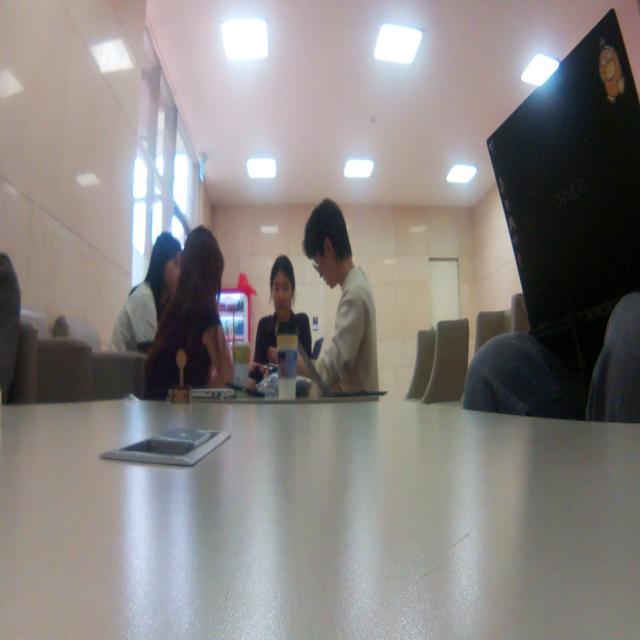target: (171, 348, 190, 406)
